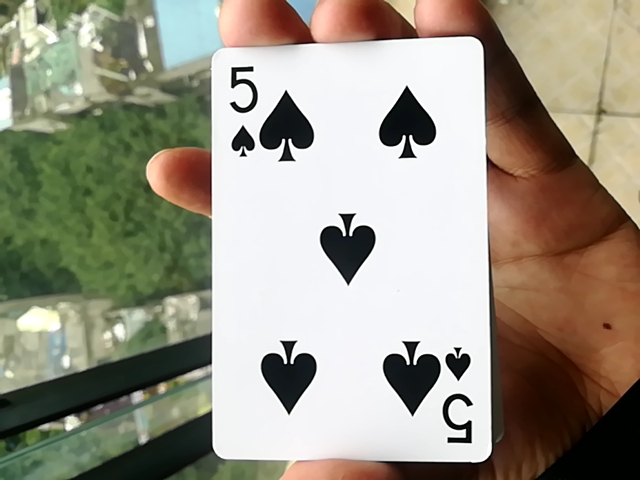ht 5: (206, 22, 486, 461)
